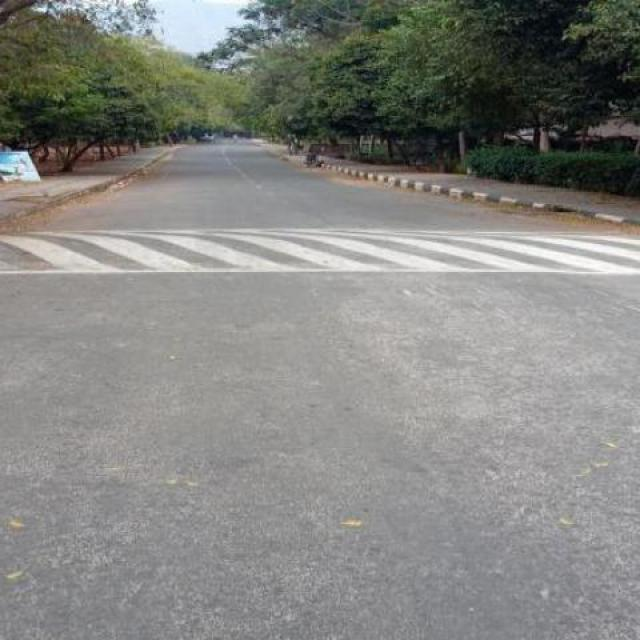Speed Bump: (0, 228, 639, 276)
